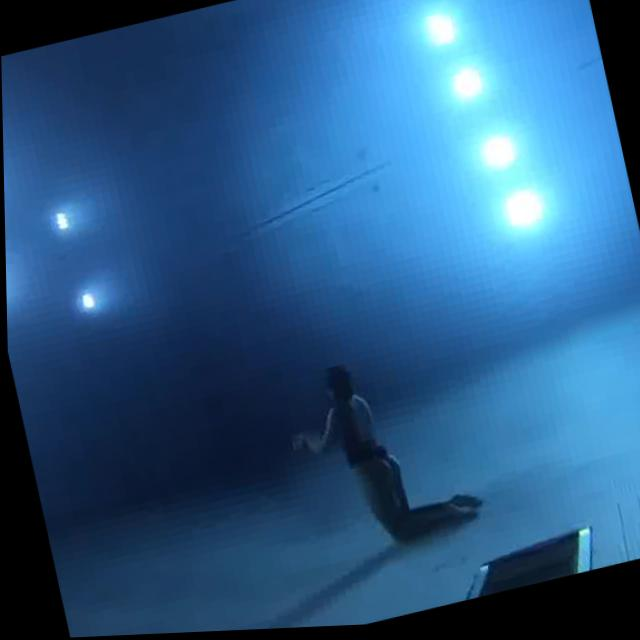human: (272, 332, 502, 585)
